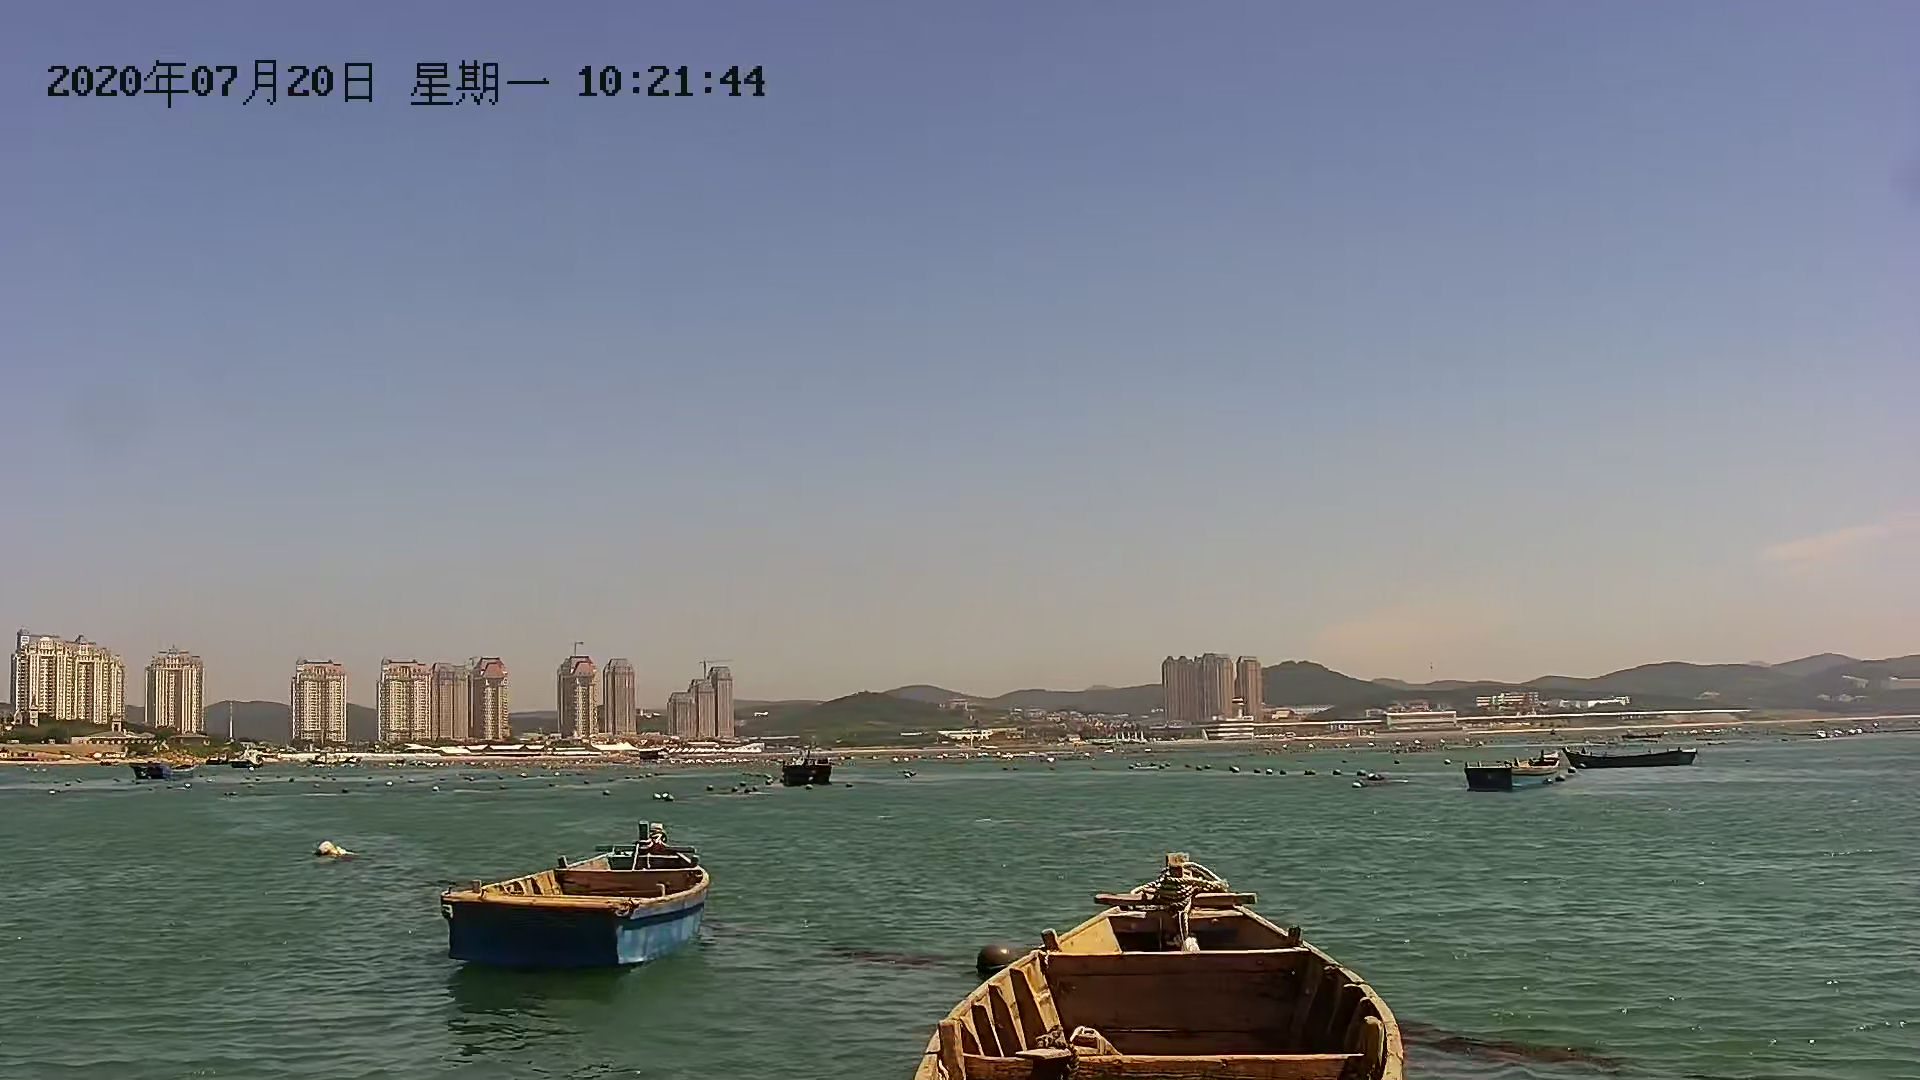boat: (902, 849, 1411, 1080), (419, 825, 712, 973), (1563, 736, 1698, 769), (1458, 756, 1568, 796), (774, 749, 840, 791), (127, 756, 196, 785)
rubbish: (305, 837, 355, 861)
